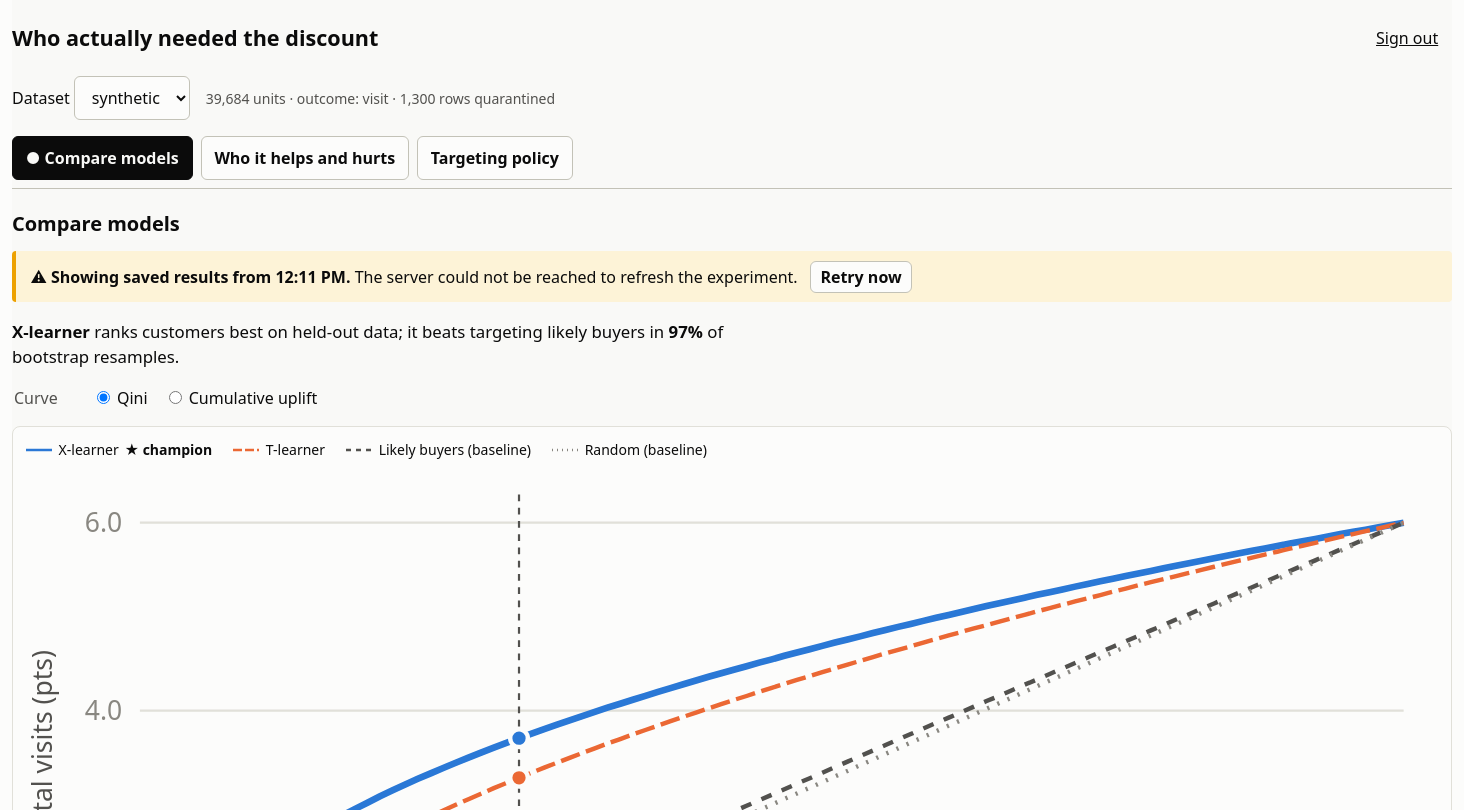
comparing models › keeps showing saved results, marked stale, when a refresh fails
Expected: the text "Showing saved results from 12:11 PM." is shown, [51,266,350,288]
Expected: the text "ranks customers best" is shown, [90,320,398,343]
Click the button "Retry now". click: (861, 277)
box: [810,261,912,293]
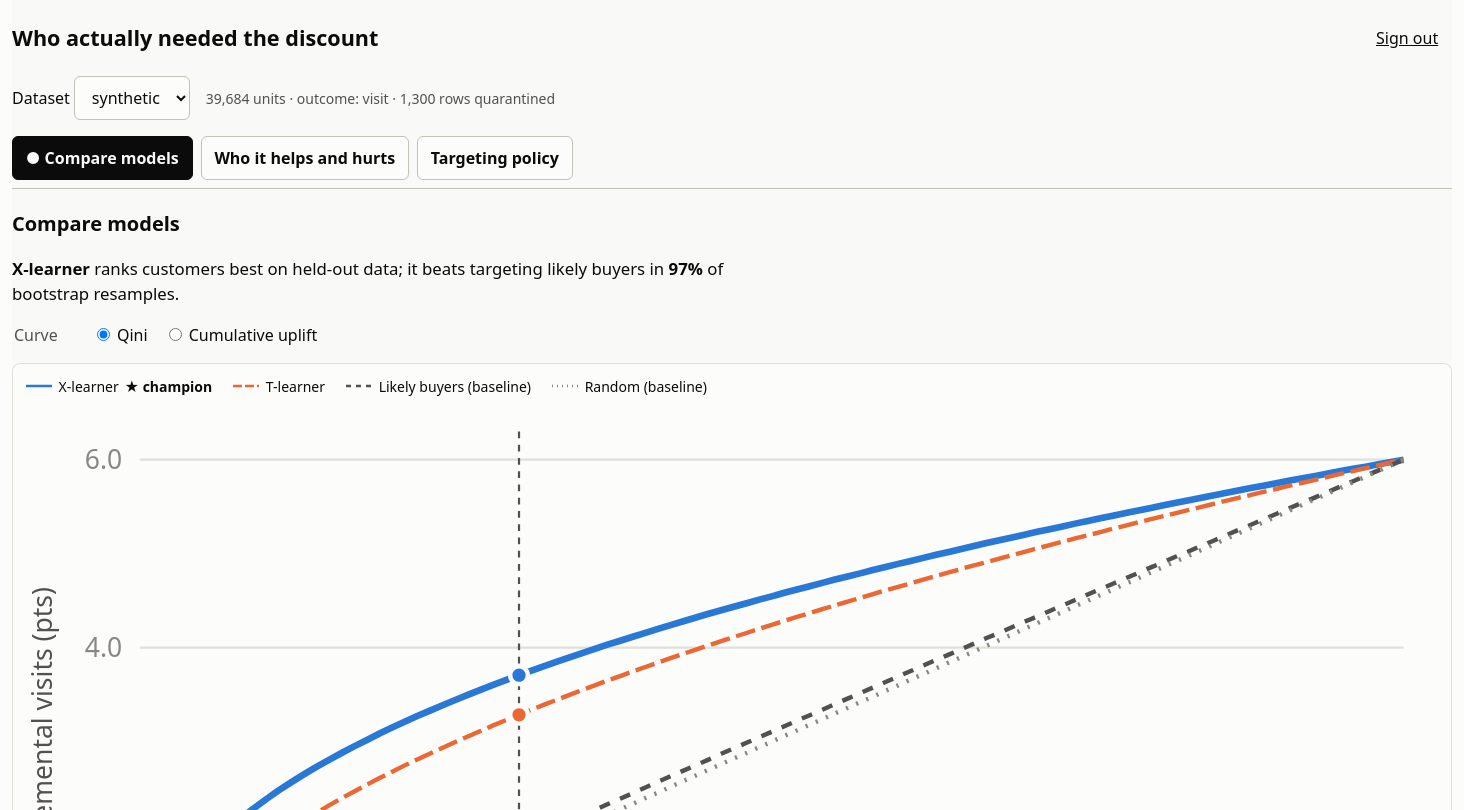
Expected: the text "Showing saved results from" is gone
